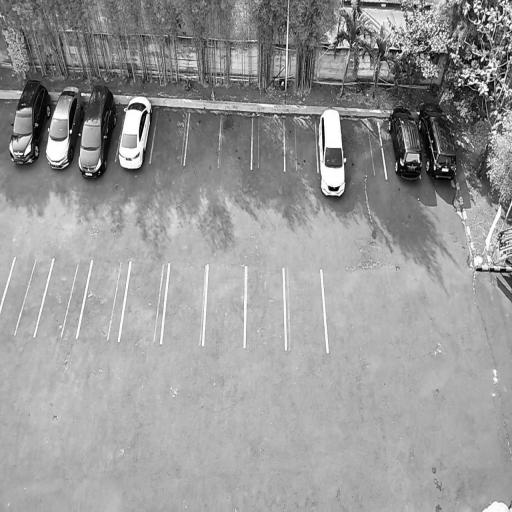Car: (69, 76, 122, 187), (3, 70, 57, 168), (39, 78, 87, 172), (414, 98, 464, 181), (383, 98, 430, 185), (114, 94, 155, 173), (317, 106, 350, 199)
Space Available: (34, 258, 92, 339), (77, 259, 130, 340), (119, 260, 169, 343), (162, 262, 208, 345), (284, 267, 328, 351), (203, 263, 246, 346), (245, 266, 286, 349), (150, 109, 189, 164), (184, 112, 222, 168), (218, 113, 252, 169), (285, 117, 319, 172), (251, 115, 285, 168)
